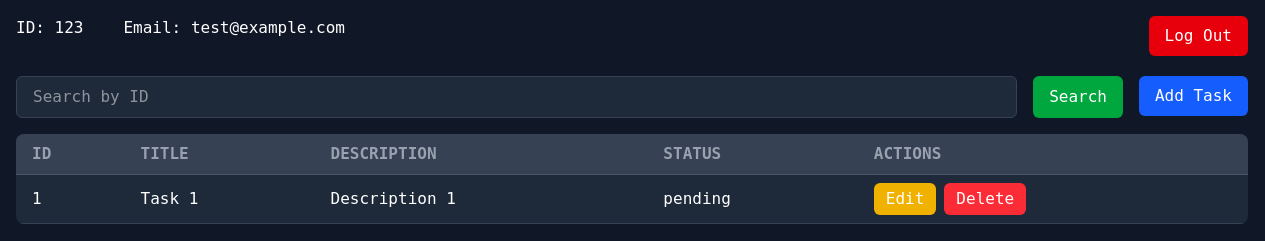
Test: Tasks Component › should can delete a task
Expected: the text "1" is shown, [16,174,124,224]
Expected: the text "Task 1" is shown, [124,174,315,224]
Click the button "Delete" at (985, 199), box [944,183,1026,215]
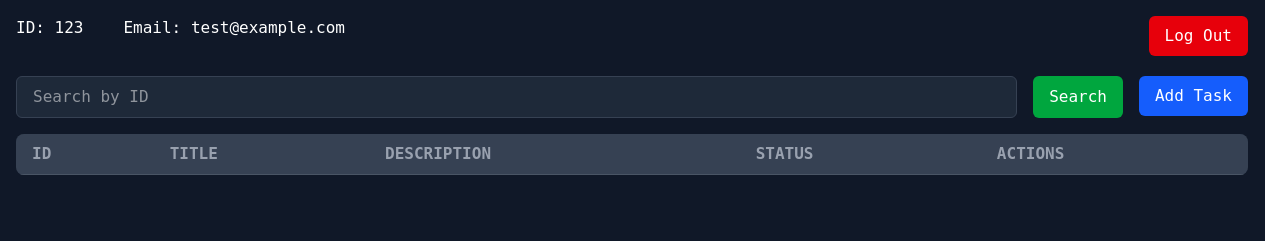
Result: the text "Task 1" is gone
Result: the text "Description 1" is gone
Result: the text "pending" is gone
